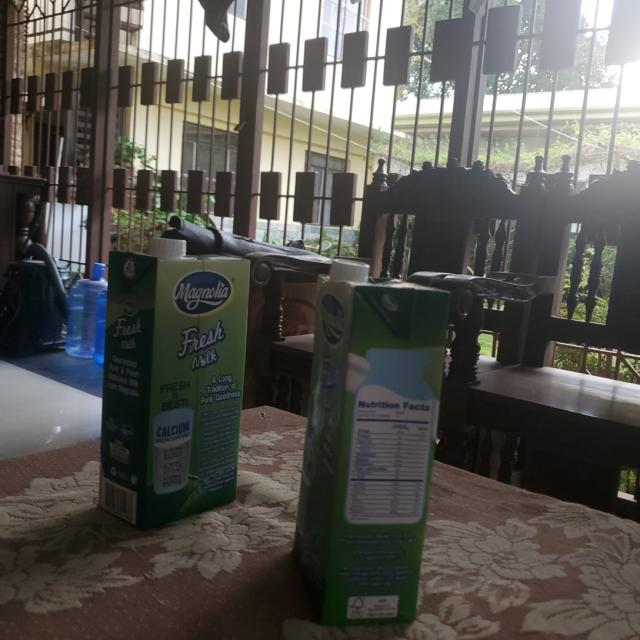milk: (293, 255, 448, 628), (99, 240, 247, 530)
